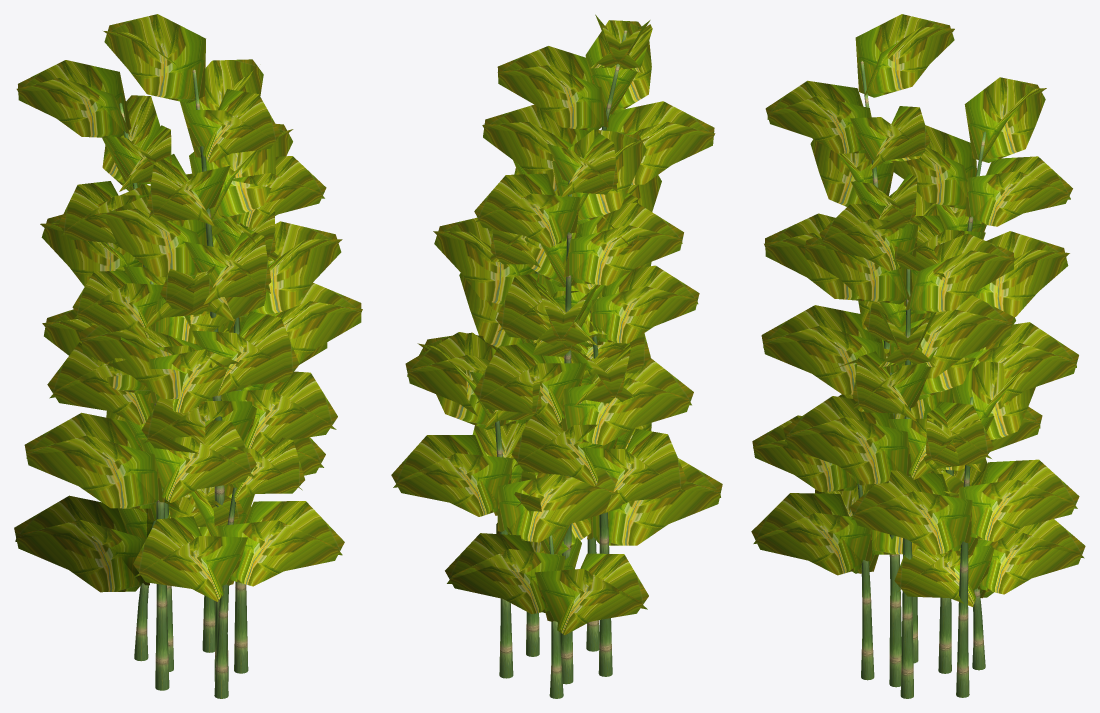
The model's file is bamboo.obj.
3 renders of one model, left to right at view 1: azimuth 30°, elevation 25°; view 2: azimuth 150°, elevation 25°; view 3: azimuth 270°, elevation 25°, orthographic. The views are drawn at different scales.
Visible parts, largest first — view 1: plant02, bamboo leaf; view 2: plant02, bamboo leaf; view 3: plant02, bamboo leaf.
Part boxes in pixels (x1=…): plant02: x1=14, y1=14, x2=362, y2=601; bamboo leaf: x1=119, y1=69, x2=248, y2=698; plant02: x1=391, y1=14, x2=722, y2=635; bamboo leaf: x1=495, y1=30, x2=627, y2=698; plant02: x1=751, y1=14, x2=1085, y2=606; bamboo leaf: x1=857, y1=61, x2=986, y2=698.
Size of the model in its own units: 47.13 by 105 by 50.08.
Materials: 2 (2 with a texture image).
